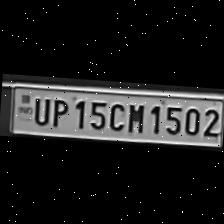0: (181, 104, 200, 136)
1: (68, 97, 88, 128), (144, 102, 163, 134)
2: (198, 105, 220, 138)
5: (160, 102, 182, 136), (85, 97, 107, 130)
C: (106, 100, 127, 132)
M: (124, 101, 146, 134)
P: (47, 95, 69, 127)
U: (30, 94, 50, 125)
